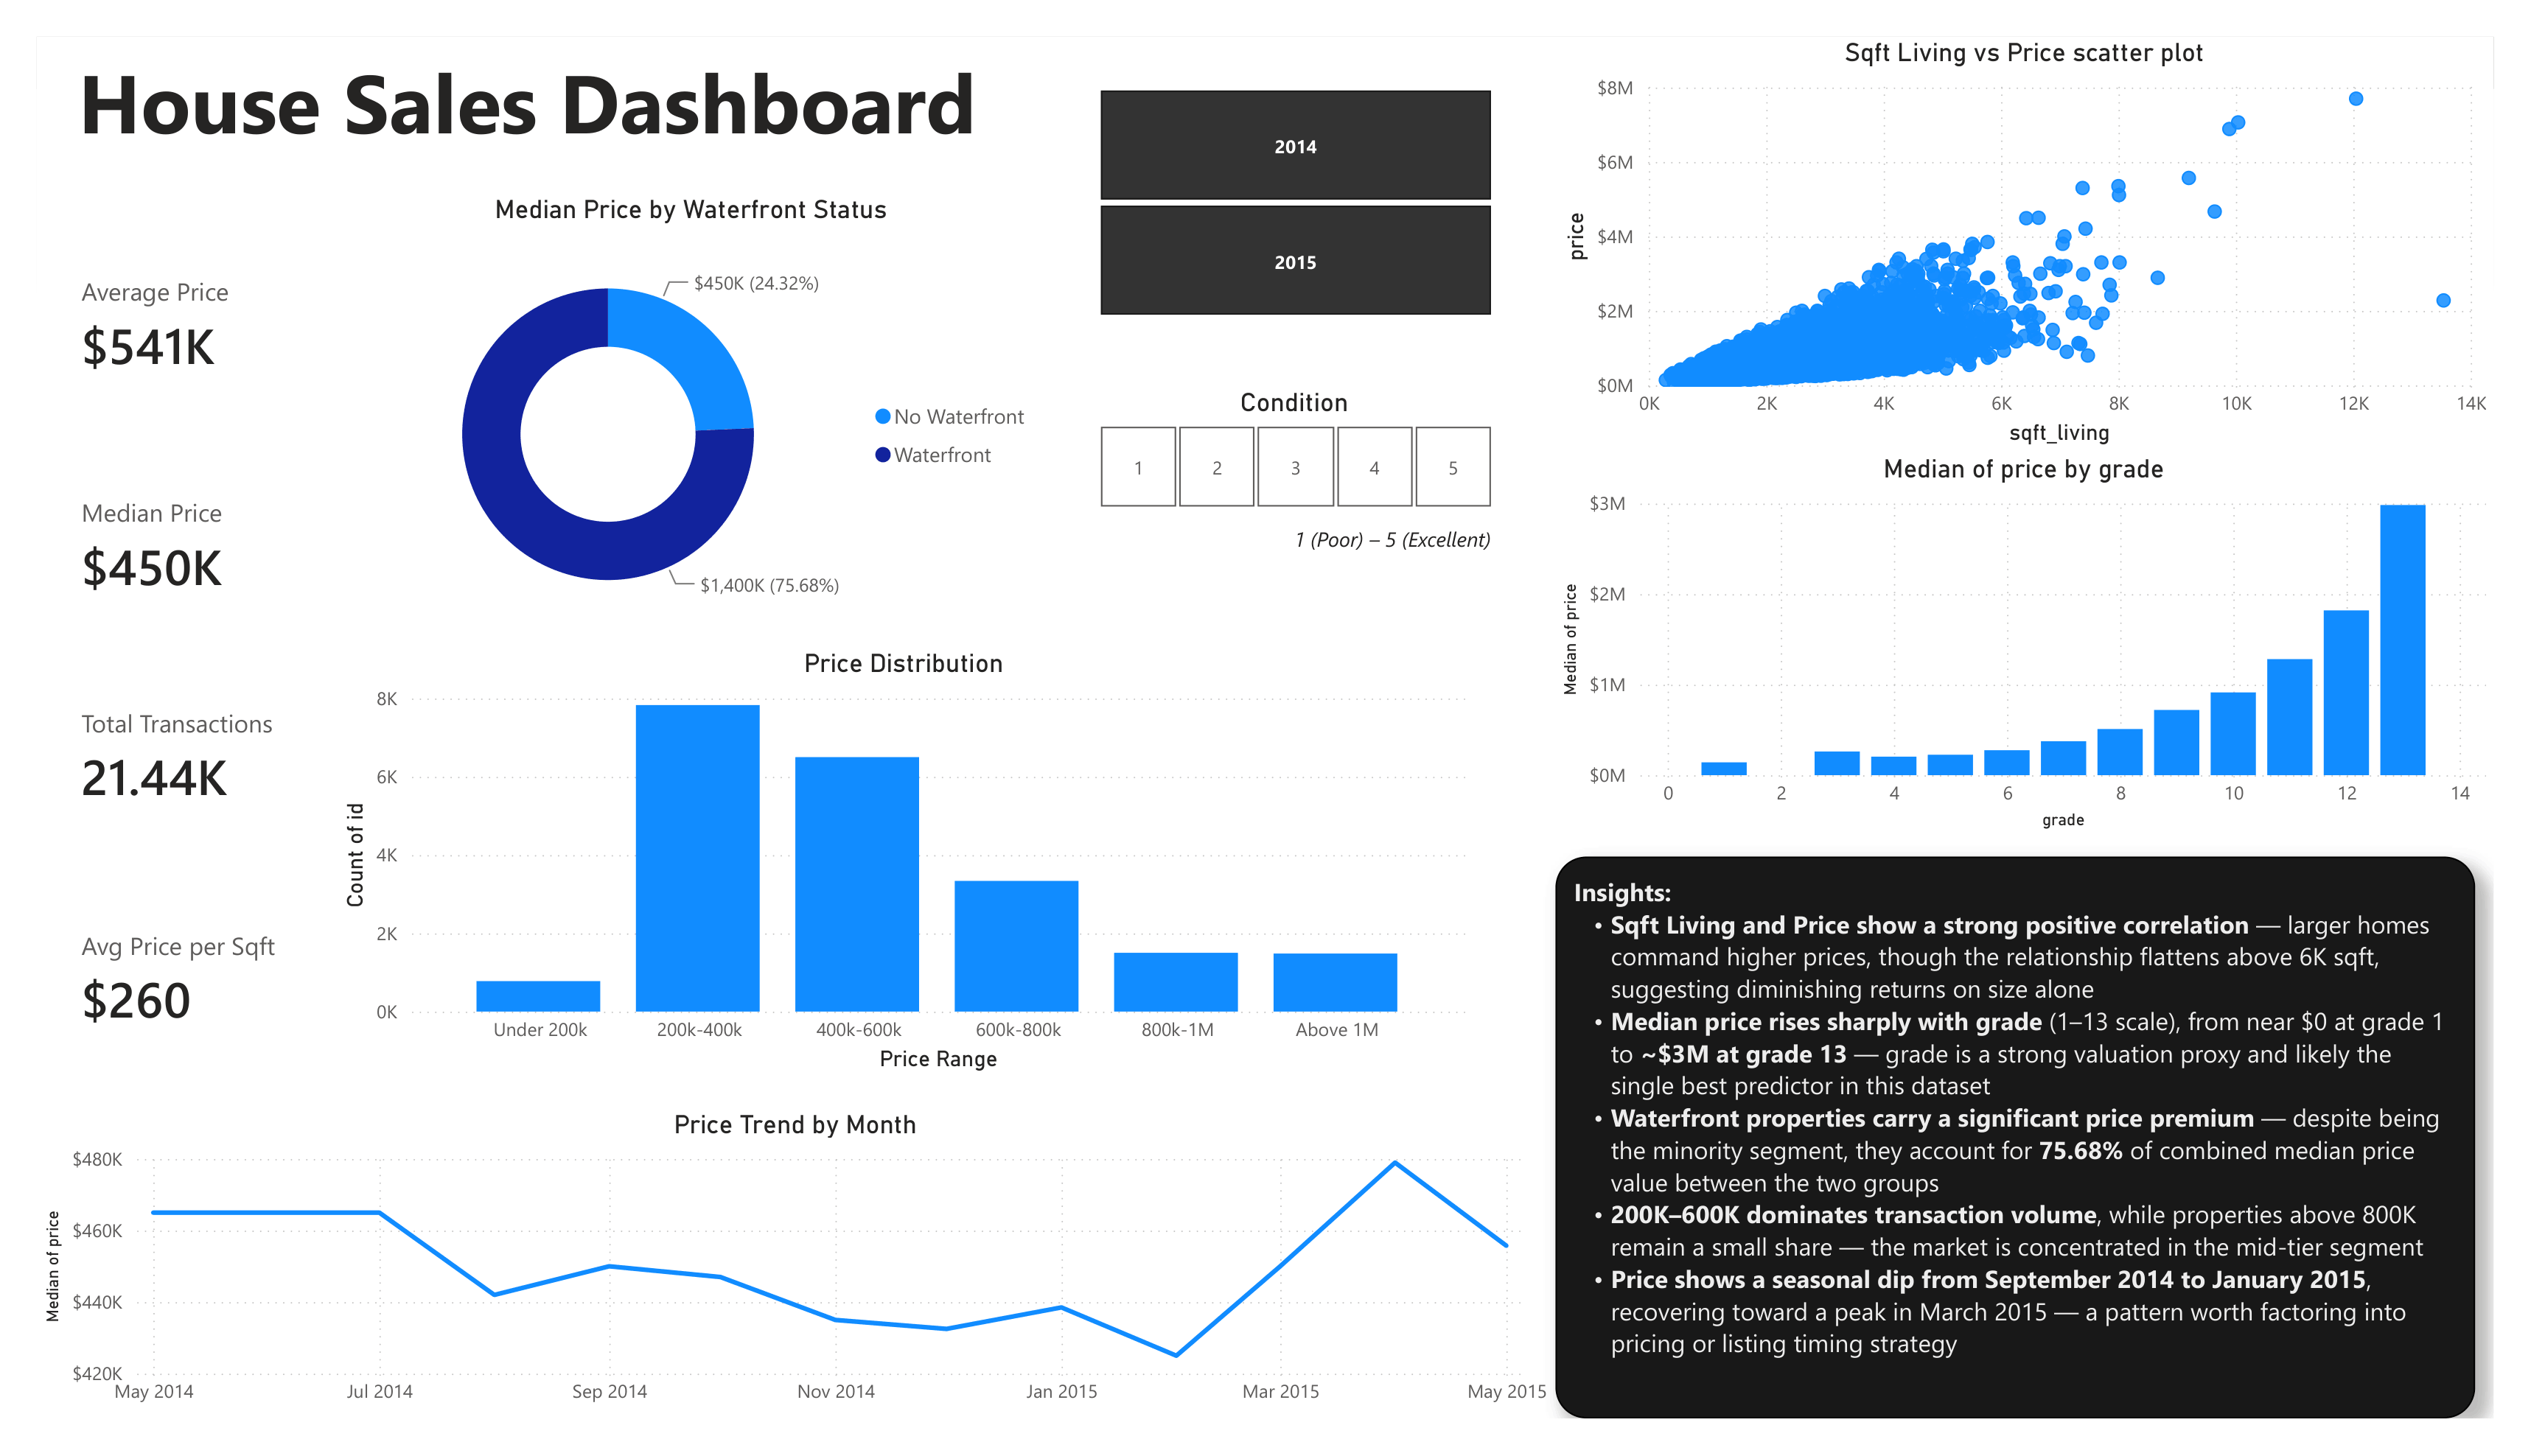

The dashboard page shown, as its layout file describes it:
{"tool":"powerbi","page":{"name":"Page 1","canvas":[1600,900],"ordinal":0},"visuals":[{"type":"slicer","title":"Condition","fields":{"Values":["kc_house_data.condition"]},"box":[667.1,228.1,304.2,84.7],"z":0},{"type":"cardVisual","fields":{"Data":["kc_house_data.Median Price"]},"box":[0,271,205.8,121.8],"z":1000},{"type":"cardVisual","fields":{"Data":["kc_house_data.Total Transaction"]},"box":[0,404.8,205.8,128.6],"z":2000},{"type":"cardVisual","fields":{"Data":["kc_house_data.Avg Price per Sqft"]},"box":[0,554,205.8,120.1],"z":3000},{"type":"clusteredColumnChart","fields":{"Y":["Median(kc_house_data.price)"],"Category":["kc_house_data.grade"]},"box":[988,271,612.4,250.4],"z":4000},{"type":"donutChart","title":"Median Price by Waterfront Status","fields":{"Y":["Median(kc_house_data.price)"],"Series":["kc_house_data.Waterfront Label"]},"box":[193.6,102,464.9,295.5],"z":5000},{"type":"lineChart","title":"Price Trend by Month","fields":{"Y":["Median(kc_house_data.price)"],"Category":["kc_house_data.date.Variation.Date Hierarchy.Year","kc_house_data.date.Variation.Date Hierarchy.Quarter","kc_house_data.date.Variation.Date Hierarchy.Month"]},"box":[0,698.1,988,202.4],"z":6000},{"type":"clusteredColumnChart","title":"Price Distribution","fields":{"Category":["kc_house_data.Price Range"],"Y":["CountNonNull(kc_house_data.id)"]},"box":[193.8,397.9,741,281.3],"z":7000},{"type":"cardVisual","fields":{"Data":["kc_house_data.Average Price"]},"box":[0,121.8,205.8,132.1],"z":8000},{"type":"slicer","title":"Year","fields":{"Values":["kc_house_data.date.Variation.Date Hierarchy.Year"]},"box":[667.1,27.7,304.2,160.7],"z":9000},{"type":"textbox","box":[0,0,639.4,83],"z":10000},{"type":"scatterChart","title":"Sqft Living vs Price scatter plot","fields":{"X":["kc_house_data.sqft_living"],"Y":["kc_house_data.price"]},"box":[988.6,0,611.8,271.3],"z":11000},{"type":"textbox","box":[988.6,534,599.7,366.4],"z":12000},{"type":"textbox","box":[719,313,233,43],"z":13000}]}

Visuals, with their boxes on the page's 1600x900 design canvas (x1, y1, x2, y2). These are canvas units, not pixel positions in the 2531x1456 screenshot, which may show the page scaled, cropped or inside an application window:
"Condition" slicer: bbox=[667, 228, 971, 313]
cardVisual - kc_house_data.Median Price: bbox=[0, 271, 206, 393]
cardVisual - kc_house_data.Total Transaction: bbox=[0, 405, 206, 533]
cardVisual - kc_house_data.Avg Price per Sqft: bbox=[0, 554, 206, 674]
clusteredColumnChart - Median(kc_house_data.price) x kc_house_data.grade: bbox=[988, 271, 1600, 521]
"Median Price by Waterfront Status" donutChart: bbox=[194, 102, 658, 398]
"Price Trend by Month" lineChart: bbox=[0, 698, 988, 900]
"Price Distribution" clusteredColumnChart: bbox=[194, 398, 935, 679]
cardVisual - kc_house_data.Average Price: bbox=[0, 122, 206, 254]
"Year" slicer: bbox=[667, 28, 971, 188]
textbox: bbox=[0, 0, 639, 83]
"Sqft Living vs Price scatter plot" scatterChart: bbox=[989, 0, 1600, 271]
textbox: bbox=[989, 534, 1588, 900]
textbox: bbox=[719, 313, 952, 356]
